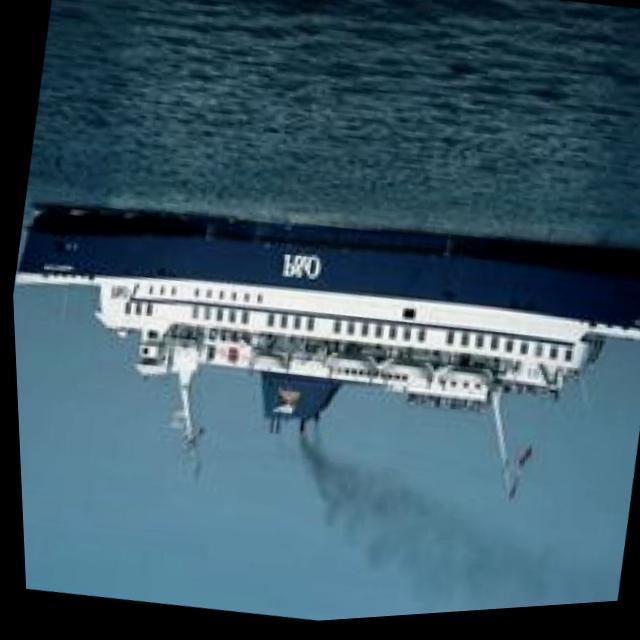ship2: (13, 206, 640, 503)
